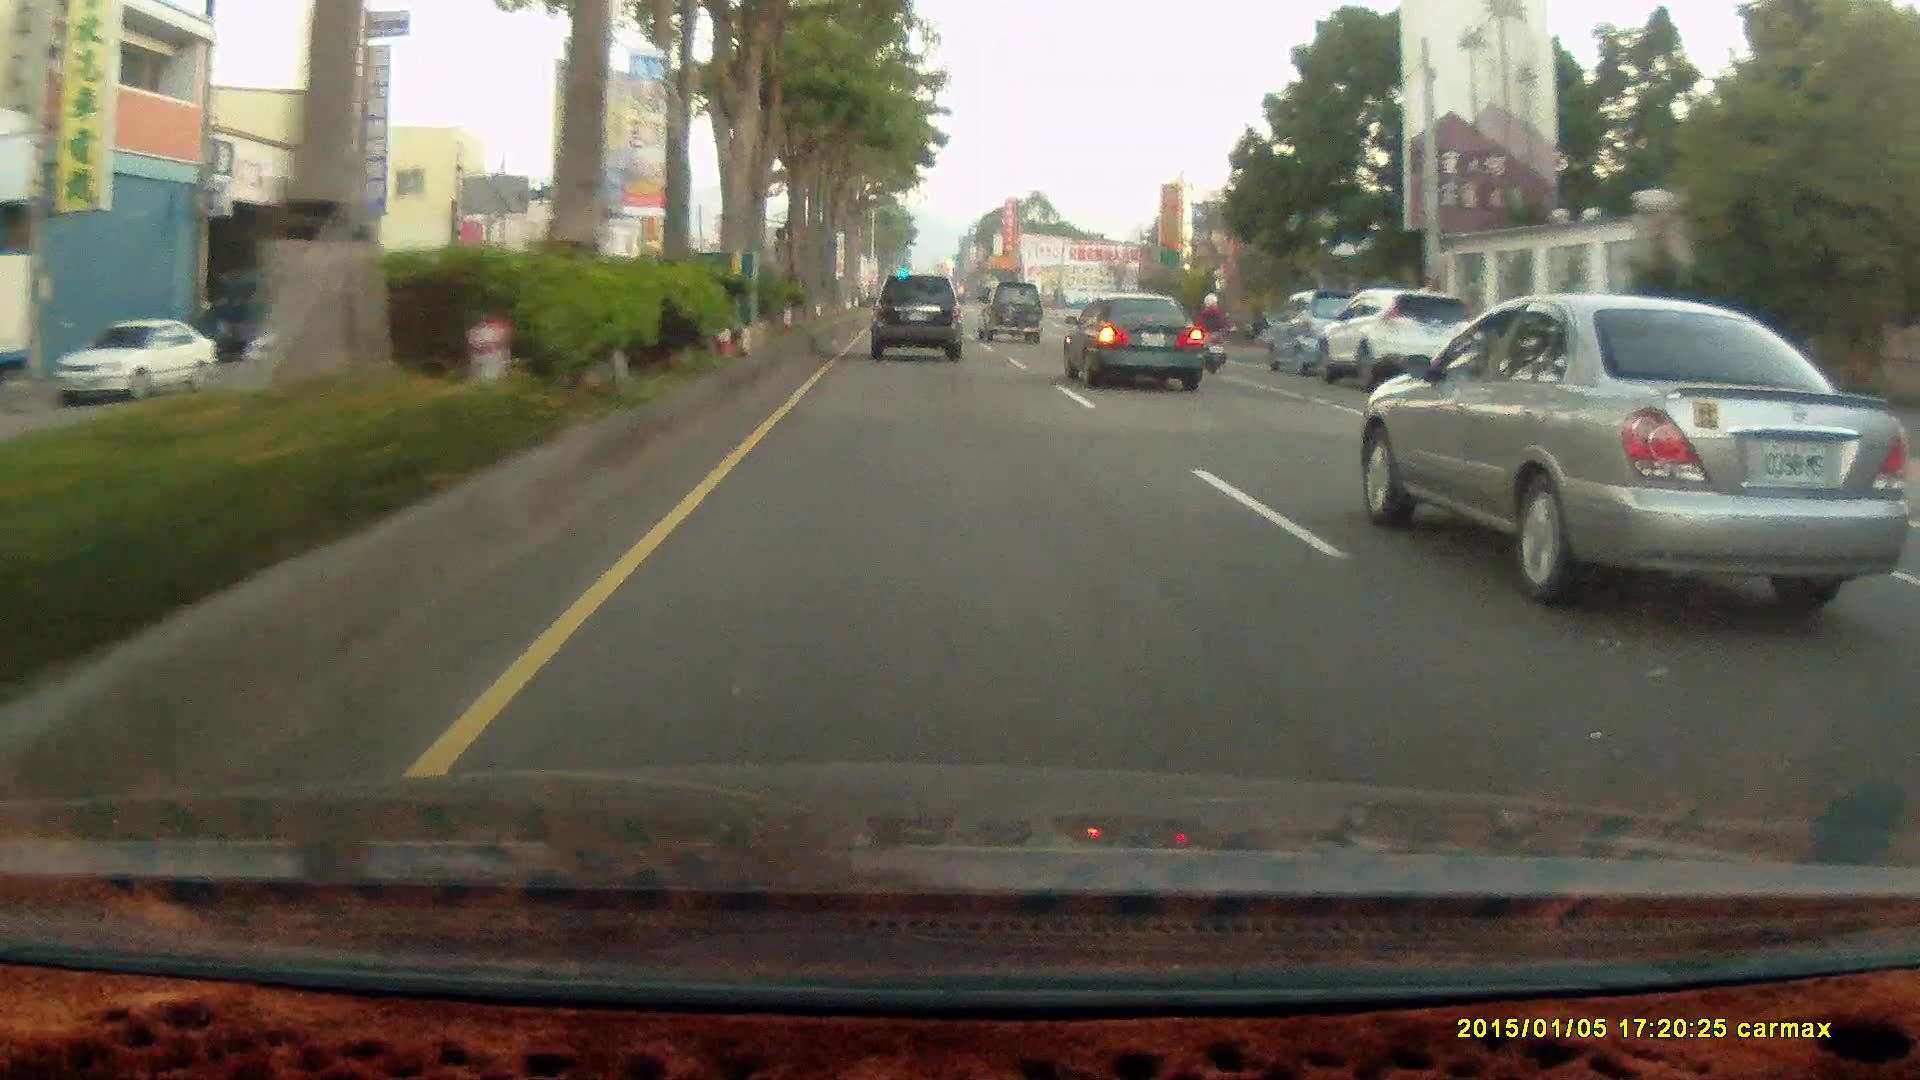rider: (1191, 290, 1230, 374), (1191, 293, 1229, 377)
vehicle: (1360, 299, 1906, 602), (1314, 289, 1480, 389), (1060, 292, 1203, 391), (51, 320, 218, 406), (1064, 296, 1210, 391), (57, 320, 218, 407), (1264, 287, 1382, 375), (867, 271, 968, 366), (866, 274, 962, 361), (0, 249, 30, 399), (977, 281, 1045, 347), (976, 281, 1041, 343)
